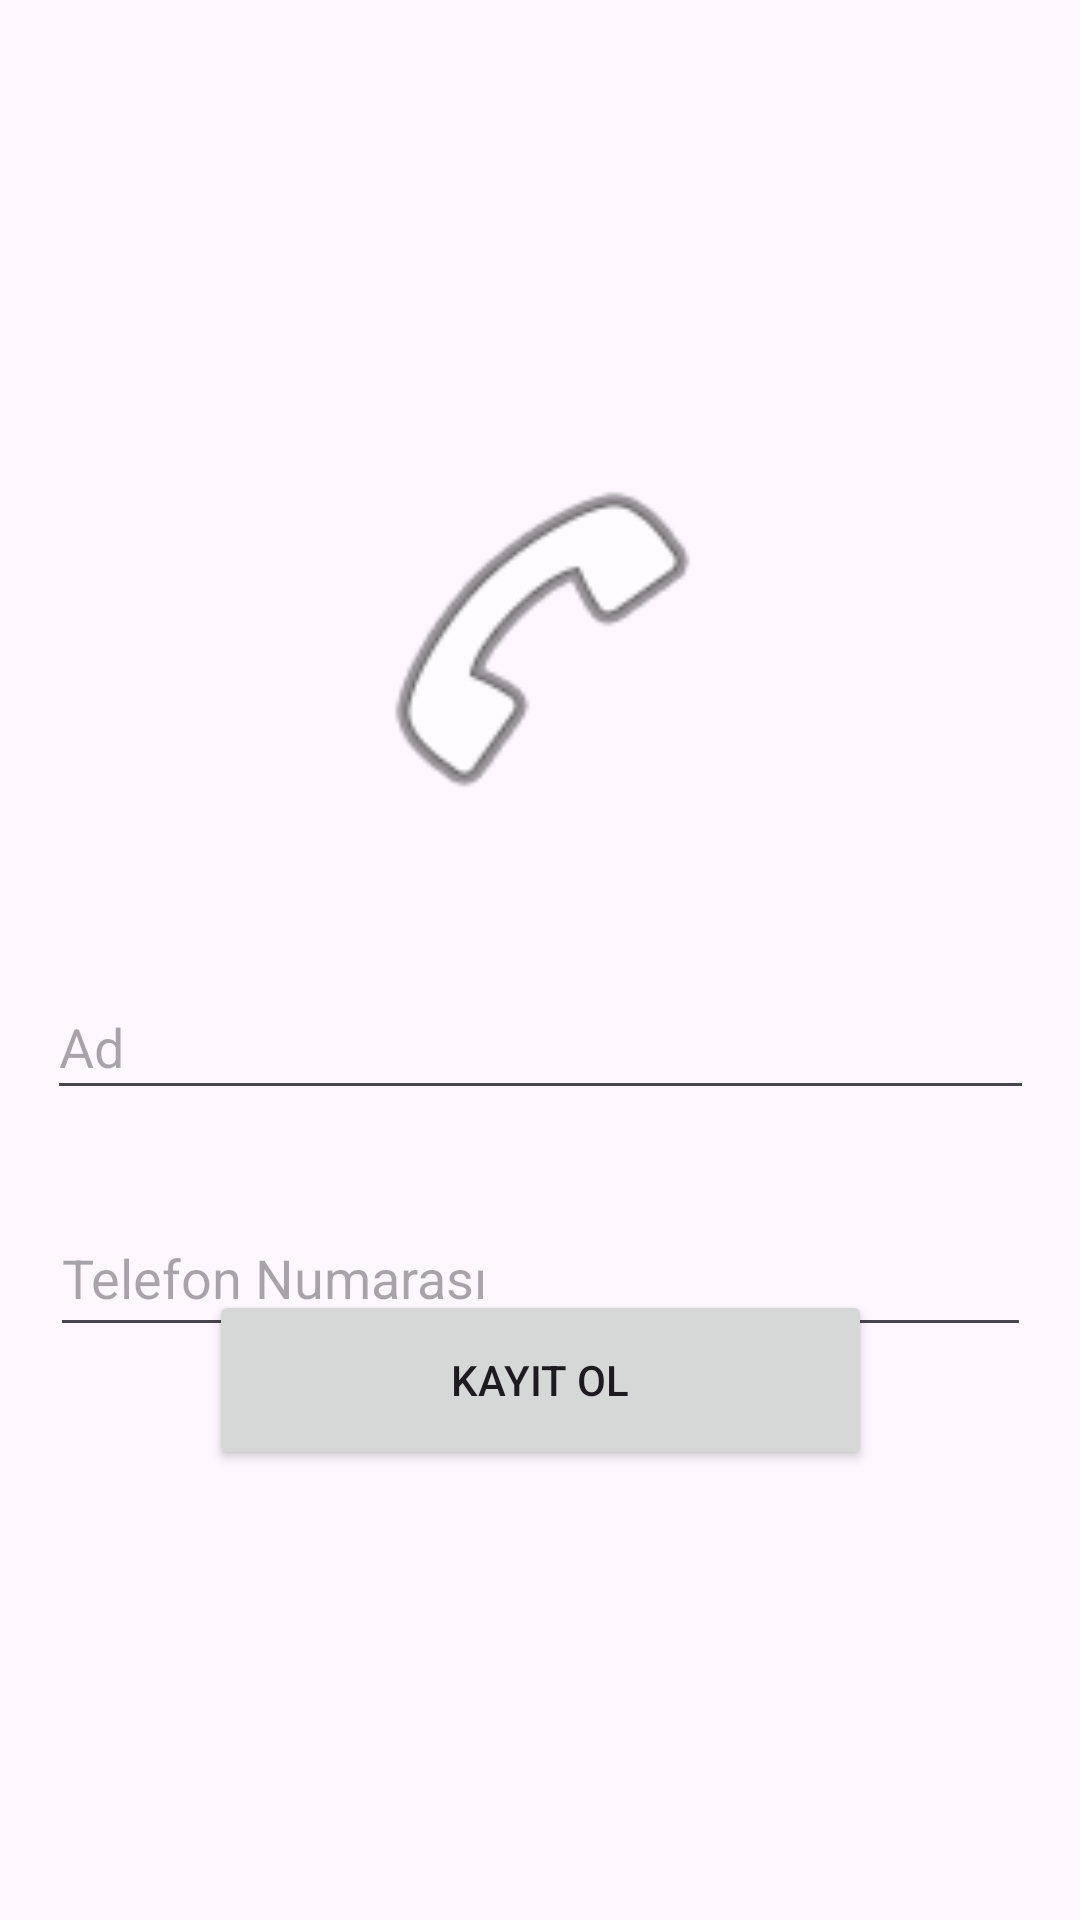

Locate icon controls on the screen. Image size 1080 × 1920, boxes as (x1, y1, x2, y2).
call: (395, 492, 689, 786)
